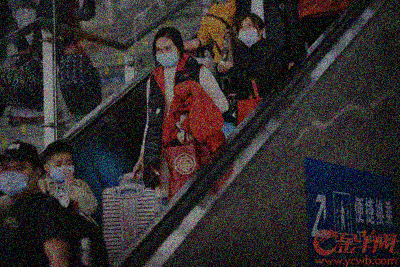with_mask: (1, 163, 32, 198), (49, 159, 76, 183), (238, 21, 260, 47), (154, 45, 178, 67)
